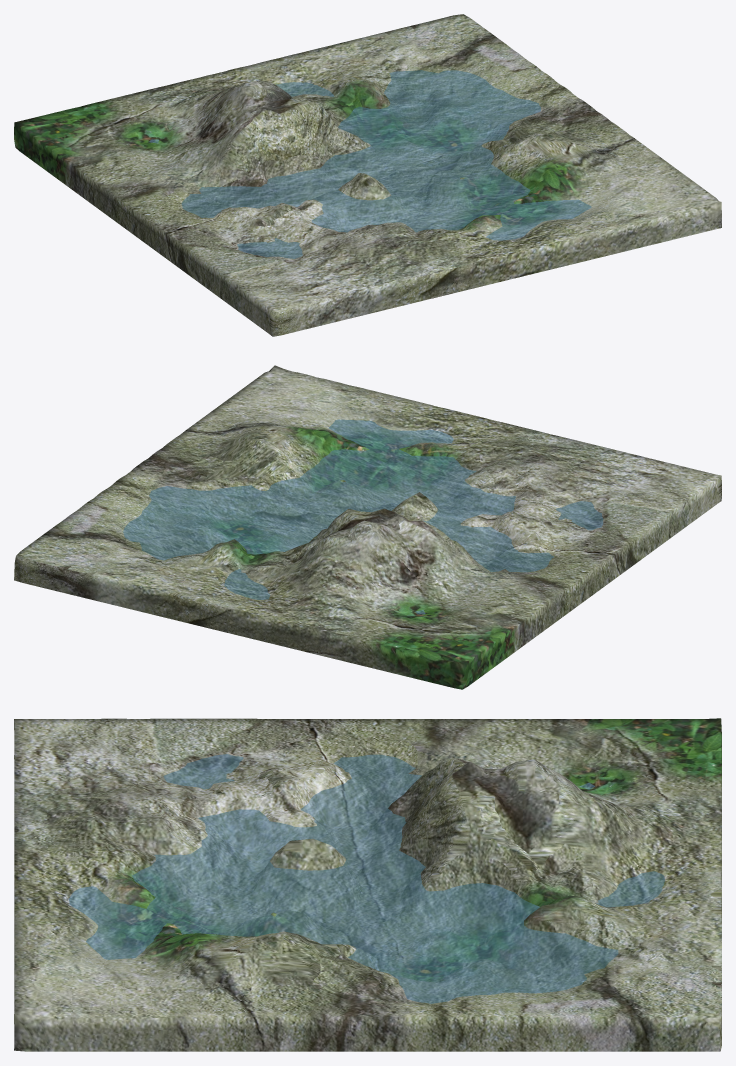
3 renders of one model, top to bottom at view 1: azimuth 30°, elevation 25°; view 2: azimuth 150°, elevation 25°; view 3: azimuth 270°, elevation 25°, orthographic. The views are drawn at different scales.
Parts seen in each view (by area): view 1: Landscape_2, Landscape_plane_3; view 2: Landscape_2, Landscape_plane_3; view 3: Landscape_2, Landscape_plane_3.
Boxes of the visible parts, x1,y1,x2,y2 form: Landscape_2: [14, 14, 721, 336]; Landscape_plane_3: [149, 70, 591, 258]; Landscape_2: [14, 365, 721, 689]; Landscape_plane_3: [123, 419, 603, 614]; Landscape_2: [14, 718, 721, 1051]; Landscape_plane_3: [69, 754, 664, 1003].
Bounding box in the file's own units: 2 × 0.3159 × 2.
2 materials, 2 textured.
